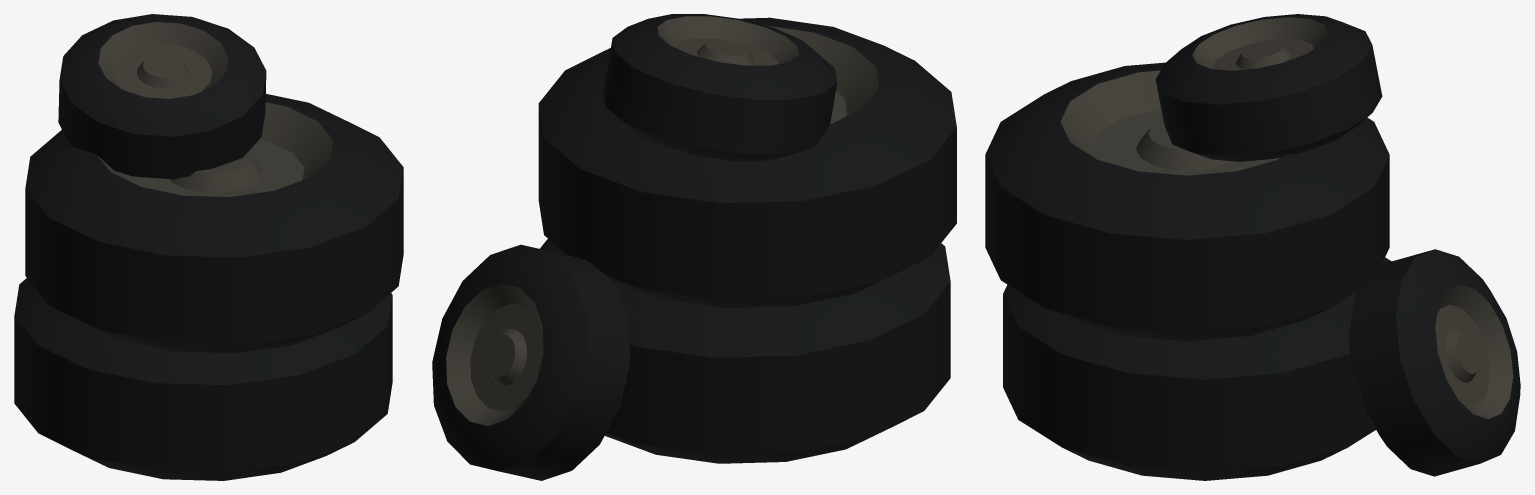
File: SpareWheels.fbx
3 renders of one model, left to right at view 1: azimuth 30°, elevation 25°; view 2: azimuth 150°, elevation 25°; view 3: azimuth 270°, elevation 25°, orthographic. The views are drawn at different scales.
Visible parts, largest first — view 1: SpareWheels; view 2: SpareWheels; view 3: SpareWheels.
Part boxes in pixels (x1,y1,x2,y2): SpareWheels: [14, 14, 403, 480]; SpareWheels: [432, 14, 956, 480]; SpareWheels: [985, 14, 1520, 480].
Bounding box in the file's own units: 75.46 × 77.14 × 97.75.
1 material, 1 textured.
